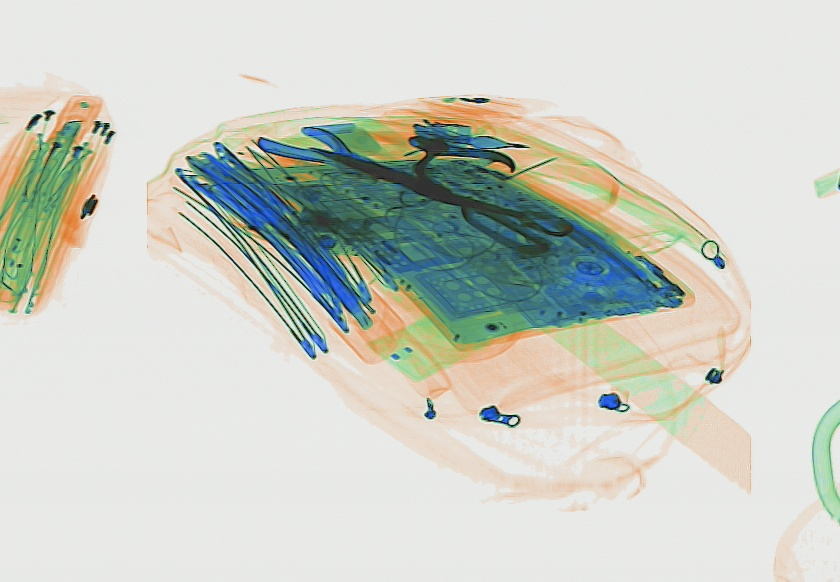scissors: (305, 143, 574, 256)
